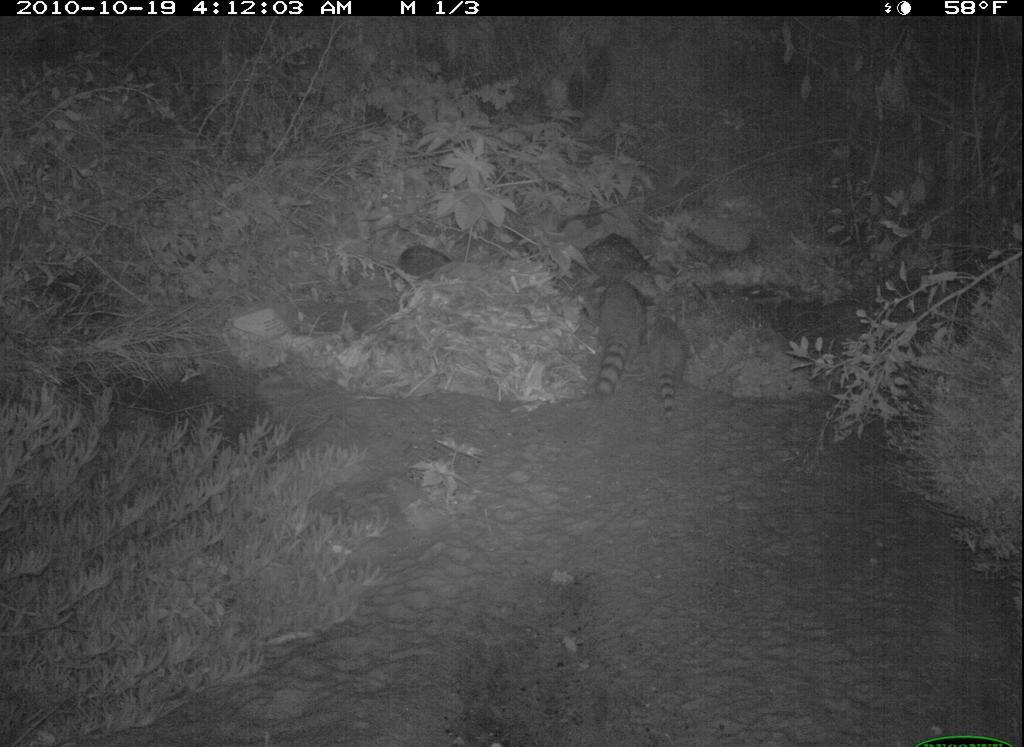raccoon: (592, 271, 660, 405), (647, 306, 694, 428)
